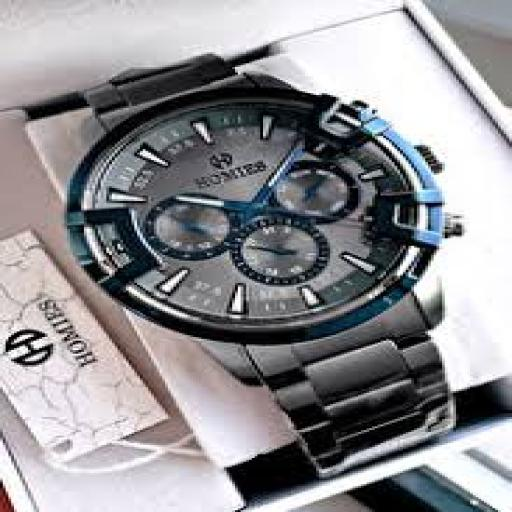KolSaati: (3, 56, 512, 484)
